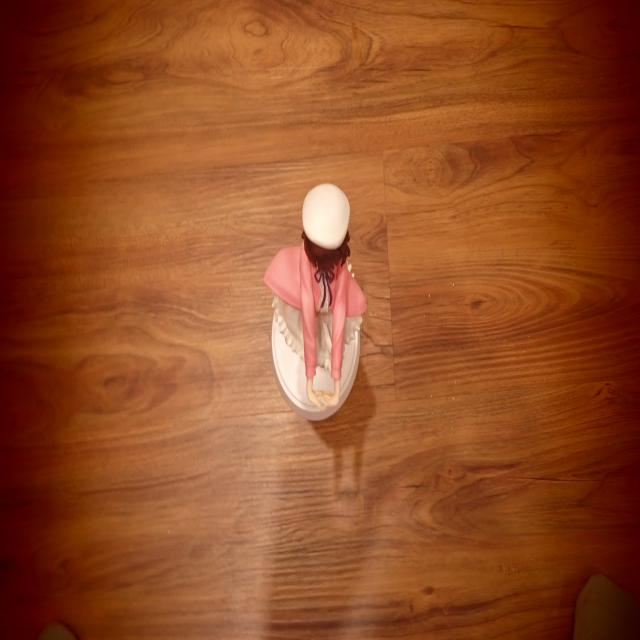My-pink-anime-figure: (264, 184, 366, 409)
